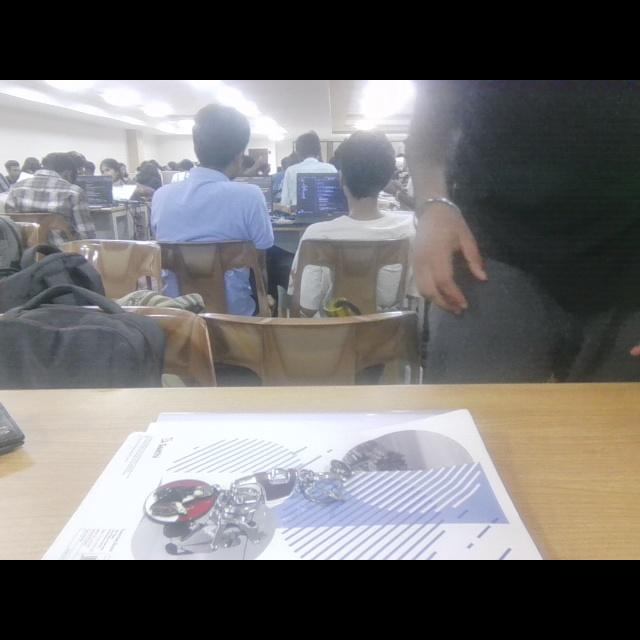keys: (146, 426, 360, 554)
